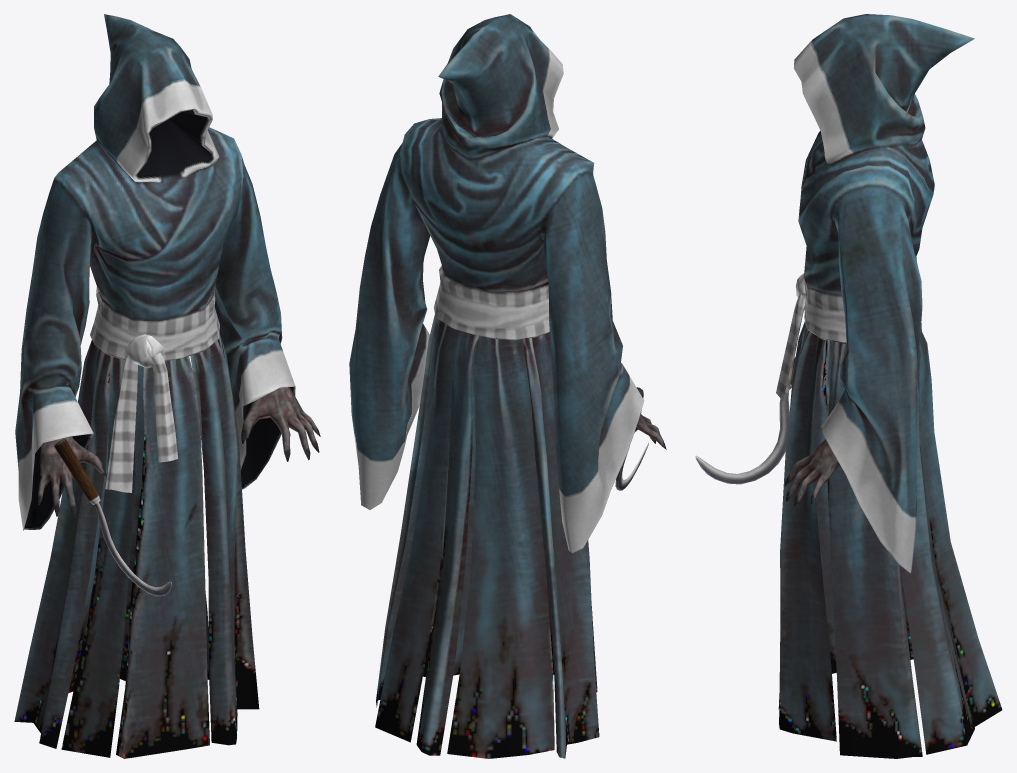
Rendered from 138-hadesshade.glb.
3 views of the same model, side by side, from view 1: azimuth 30°, elevation 25°; view 2: azimuth 150°, elevation 25°; view 3: azimuth 270°, elevation 25° (orthographic).
Bounding box in the file's own units: 0.9878 × 2.32 × 0.923.
Materials: 2 (2 with a texture image).
